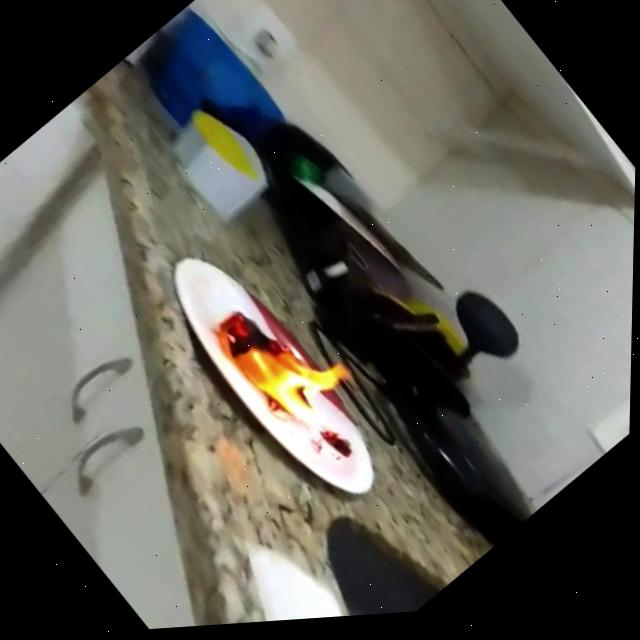Fire: (200, 269, 370, 457)
